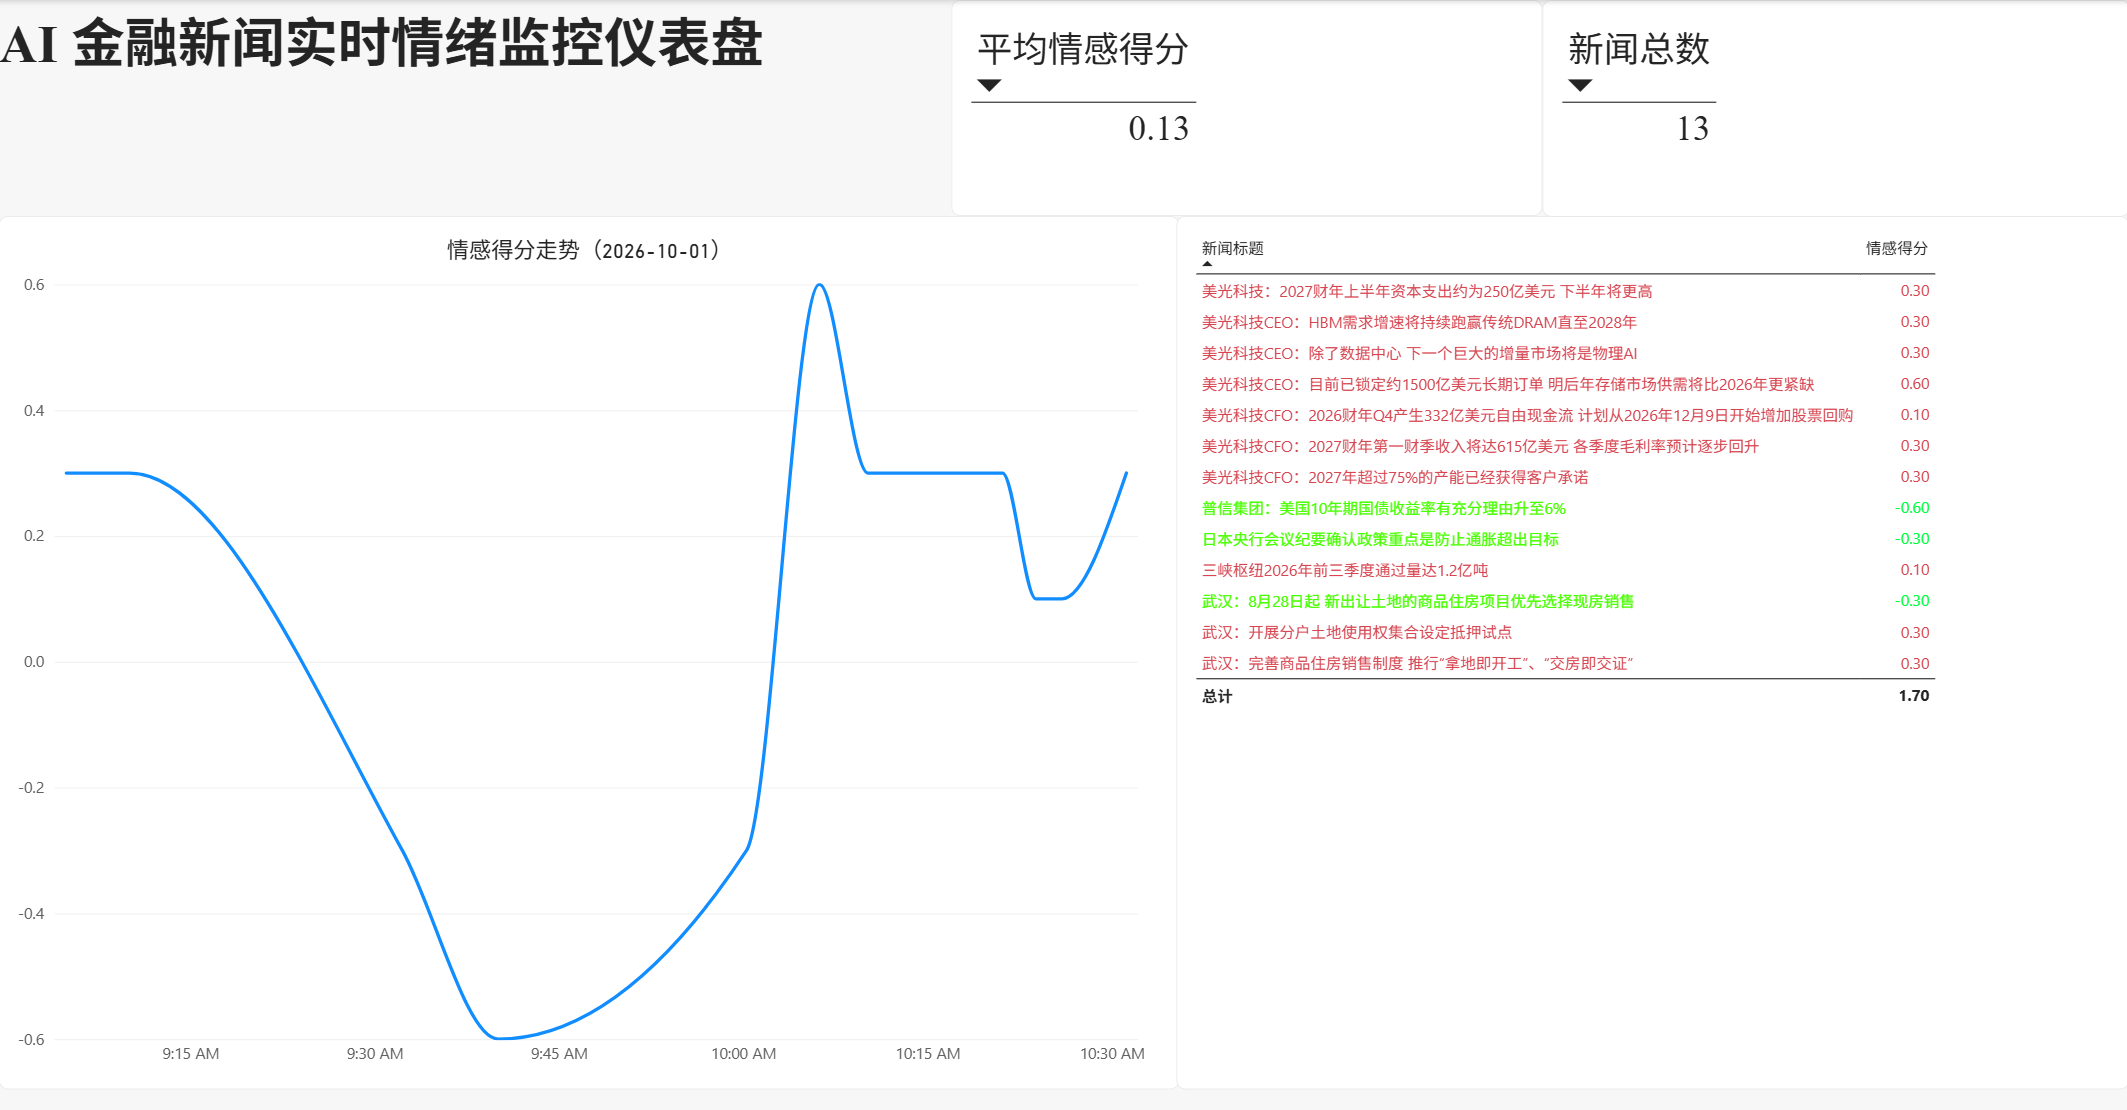

The dashboard page shown, as its layout file describes it:
{"tool":"powerbi","page":{"name":"第 1 页","canvas":[1920,1080],"ordinal":0},"visuals":[{"type":"tableEx","fields":{"Values":["Avg(news_with_sentiment.sentiment_score)"]},"box":[858.4,0,532.6,194.6],"z":0},{"type":"lineChart","title":"情感得分走势（2026-10-01）","fields":{"Category":["news_with_sentiment.publish_time"],"Y":["Sum(news_with_sentiment.sentiment_score)"]},"box":[0,194.7,1063.7,787.4],"z":1000},{"type":"tableEx","fields":{"Values":["news_with_sentiment.title","Sum(news_with_sentiment.sentiment_score)"]},"box":[1062.1,194.6,858.4,787.5],"z":2000},{"type":"tableEx","fields":{"Values":["news_with_sentiment.title"]},"box":[1391,0,529,195],"z":3000},{"type":"textbox","title":"AI 金融新闻实时情绪监控仪表盘","box":[0,0,858.4,194.6],"z":4000}]}

Visuals, with their boxes on the page's 1920x1080 design canvas (x1, y1, x2, y2). These are canvas units, not pixel positions in the 2127x1110 screenshot, which may show the page scaled, cropped or inside an application window:
tableEx - Avg(news_with_sentiment.sentiment_score): 858,0,1391,195
"情感得分走势（2026-10-01）" lineChart: 0,195,1064,982
tableEx - news_with_sentiment.title x Sum(news_with_sentiment.sentiment_score): 1062,195,1920,982
tableEx - news_with_sentiment.title: 1391,0,1920,195
"AI 金融新闻实时情绪监控仪表盘" textbox: 0,0,858,195
